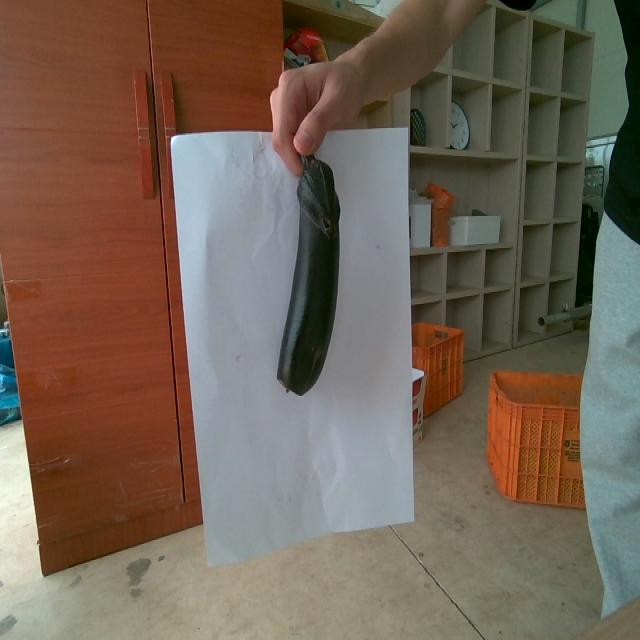Egg plant: (277, 155, 339, 395)
